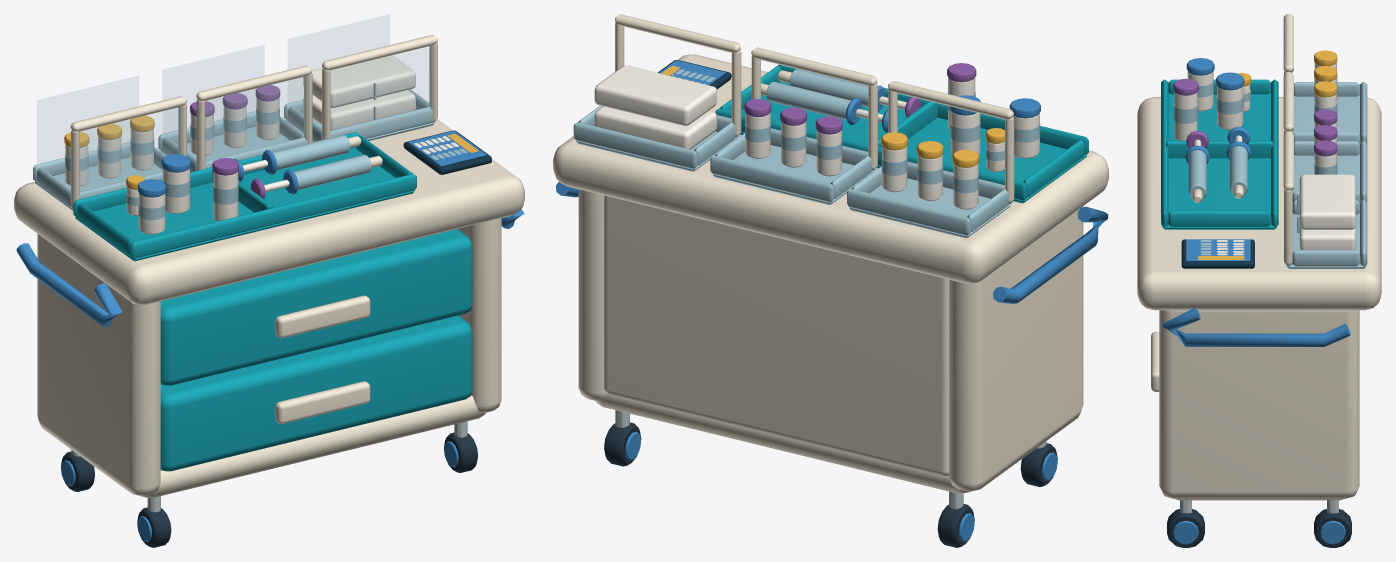
File: medical-11.glb
3 views of the same model, side by side, from view 1: azimuth 30°, elevation 25°; view 2: azimuth 150°, elevation 25°; view 3: azimuth 270°, elevation 25° (orthographic). The views are drawn at different scales.
Parts seen in each view (by area): view 1: 11_SedaPrep_Body, 11_SedaPrep_Glass; view 2: 11_SedaPrep_Body; view 3: 11_SedaPrep_Body.
Boxes of the visible parts, <box> form: 11_SedaPrep_Body: <box>14,34,524,547</box>; 11_SedaPrep_Glass: <box>37,14,433,198</box>; 11_SedaPrep_Body: <box>553,14,1108,547</box>; 11_SedaPrep_Body: <box>1137,14,1381,547</box>.
Size of the model in its own units: 1.57 by 1.4 by 0.83.
Materials: 2 (1 with a texture image).
